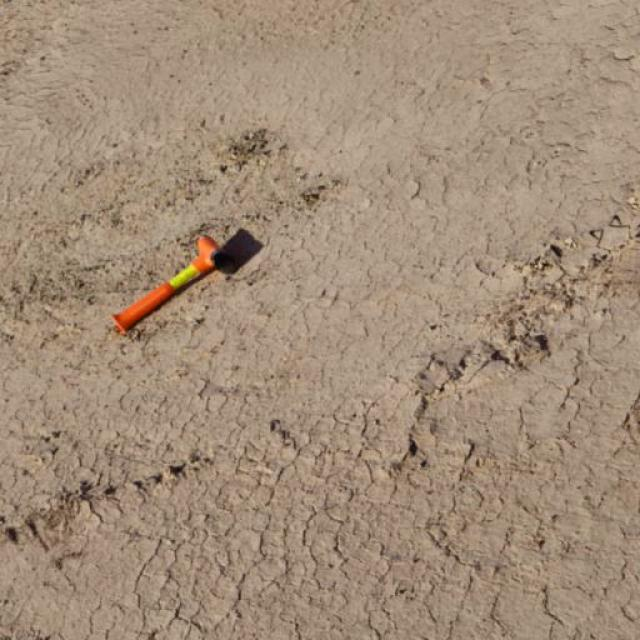mallet: (109, 226, 239, 335)
